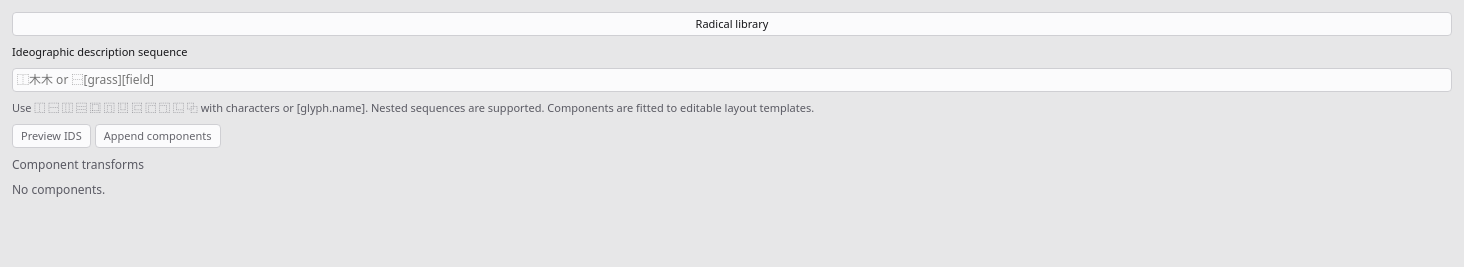
CJK construction panel › reports missing source glyphs and never enables mutation
This screenshot has width=1464, height=267.
Type "木" into the field labelled "Ideographic description sequence" at (732, 80), box [12,68,1452,92]
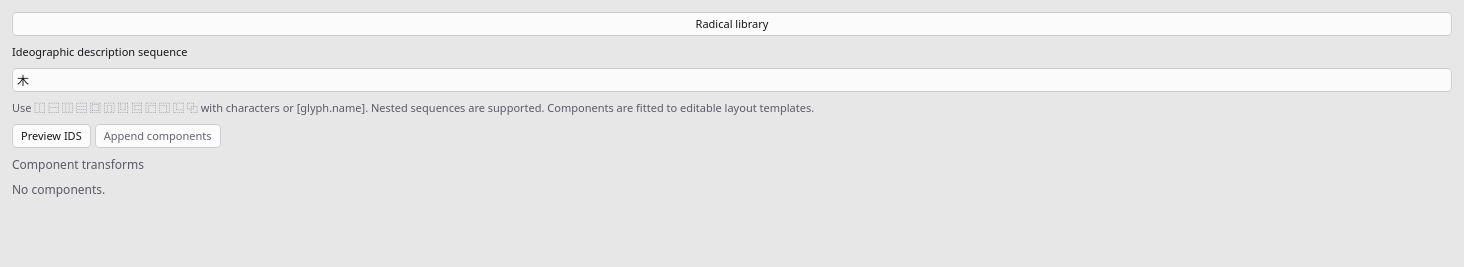
Click the button "Preview IDS" at (51, 136), box [12,124,91,148]
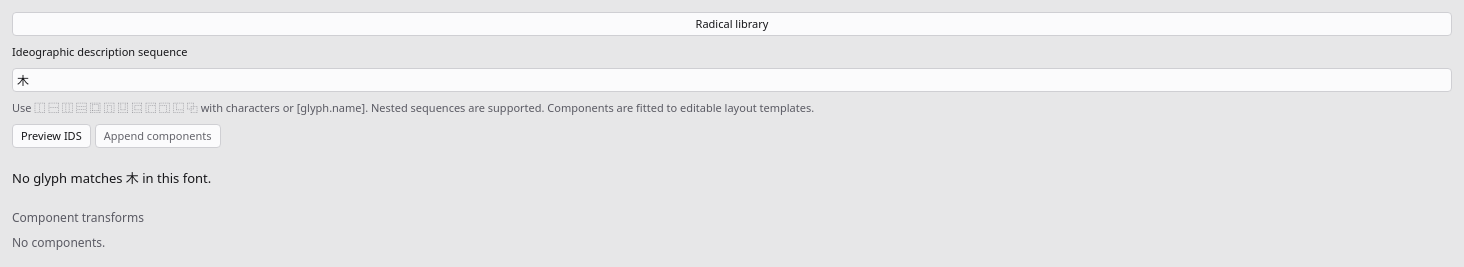
Expected: the button "Append components" is disabled, [95,124,221,148]
Expected: the message shows "No glyph matches 木", [12,169,211,187]
